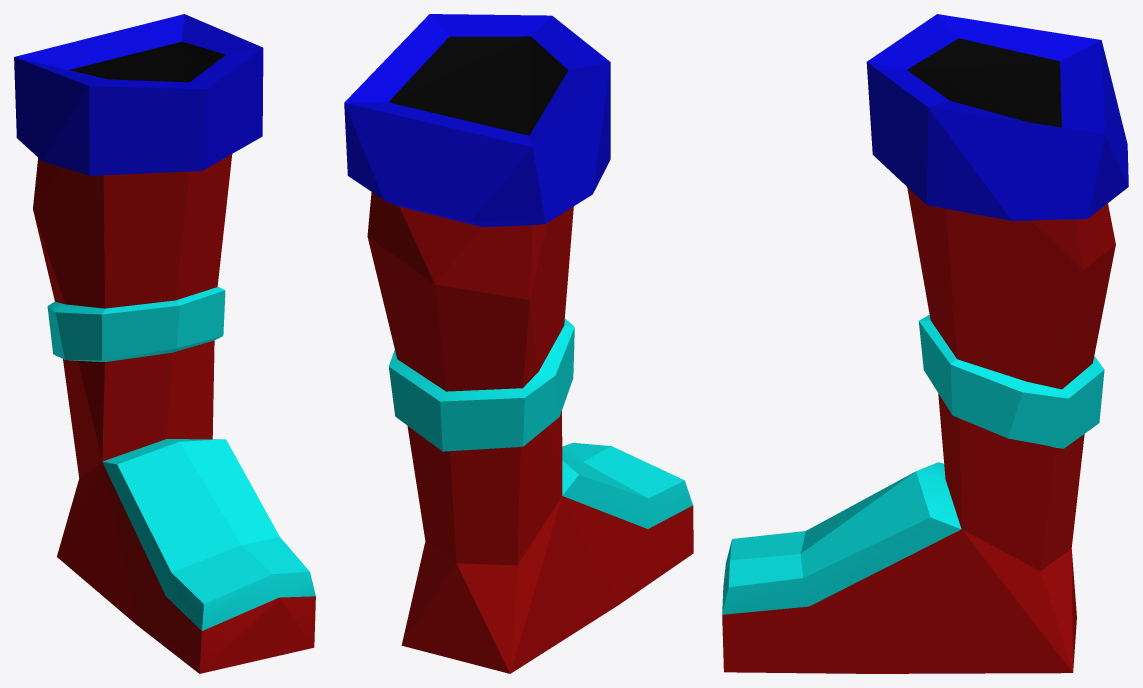
The model's file is Chr_LegLeft_Male_Static_18.fbx.
The picture shows the model from 3 angles, left to right: view 1: azimuth 30°, elevation 25°; view 2: azimuth 150°, elevation 25°; view 3: azimuth 270°, elevation 25°; orthographic projection. The views are drawn at different scales.
Parts seen in each view (by area): view 1: Chr_LegLeft_Male_18; view 2: Chr_LegLeft_Male_18; view 3: Chr_LegLeft_Male_18.
Boxes of the visible parts, box(x1,y1,x2,y2) form: Chr_LegLeft_Male_18: box(14, 14, 315, 673); Chr_LegLeft_Male_18: box(344, 14, 693, 673); Chr_LegLeft_Male_18: box(722, 14, 1128, 673).
Bounding box in the file's own units: 16.45 × 40.99 × 25.73.
